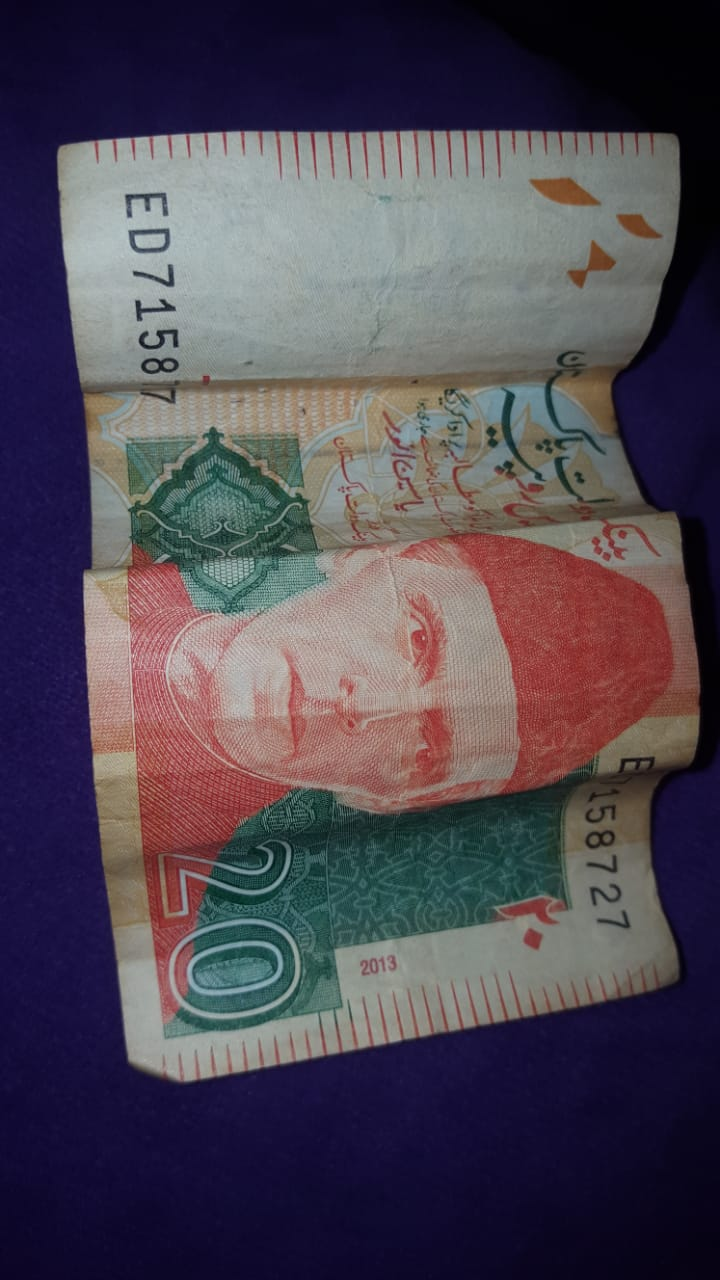20 rupee: (22, 76, 695, 1130)
